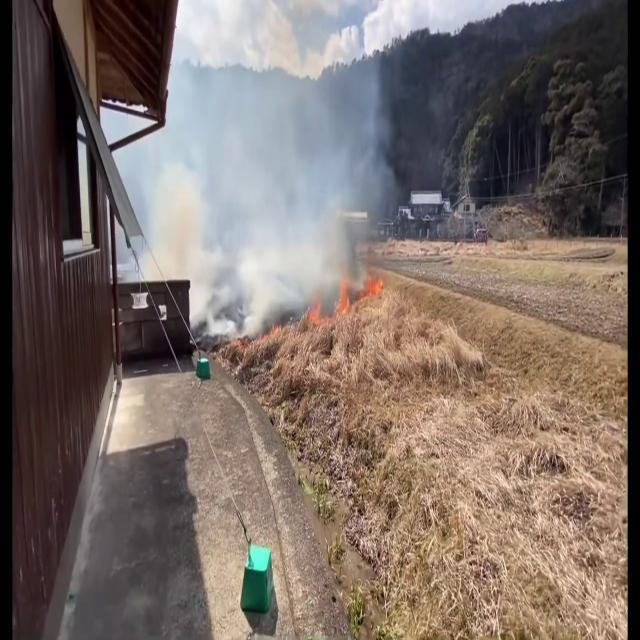Smoke: (158, 16, 406, 356)
